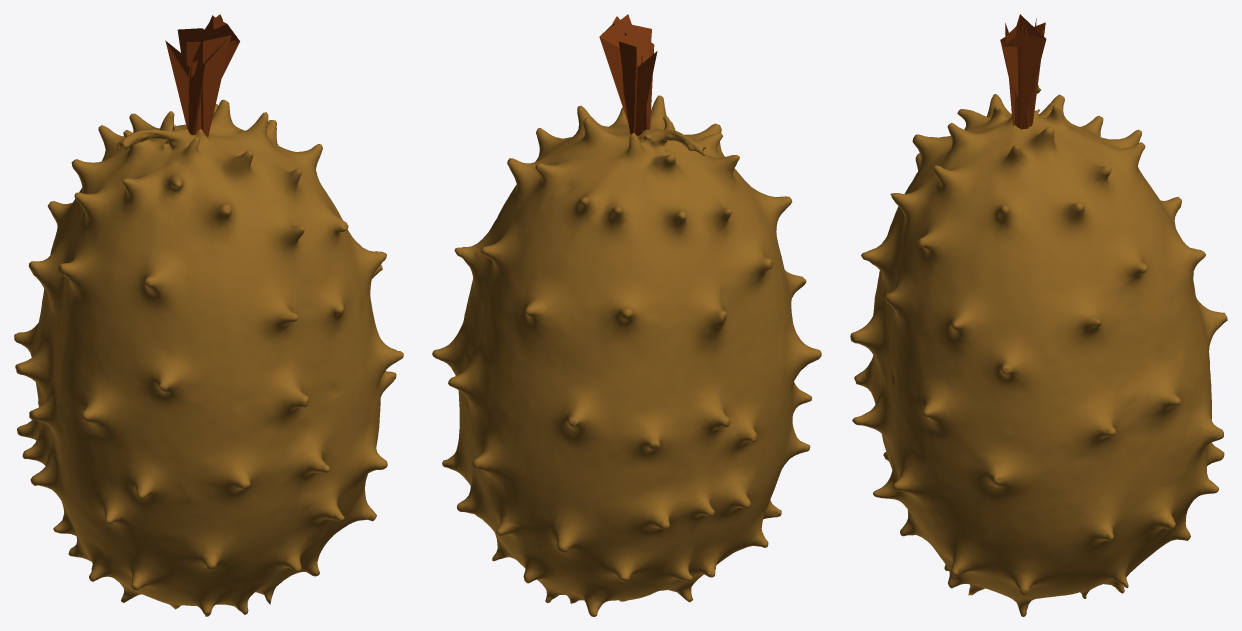
The model's file is Fruit_Sitrus.fbx.
3 views of the same model, side by side, from view 1: azimuth 30°, elevation 25°; view 2: azimuth 150°, elevation 25°; view 3: azimuth 270°, elevation 25° (orthographic). The views are drawn at different scales.
Visible parts, largest first — view 1: kiwano_rigsters, Cylinder; view 2: kiwano_rigsters, Cylinder; view 3: kiwano_rigsters, Cylinder.
Part boxes in pixels (x1=…): kiwano_rigsters: x1=14, y1=99, x2=403, y2=616; Cylinder: x1=165, y1=14, x2=239, y2=137; kiwano_rigsters: x1=432, y1=95, x2=821, y2=616; Cylinder: x1=599, y1=14, x2=657, y2=135; kiwano_rigsters: x1=850, y1=85, x2=1227, y2=616; Cylinder: x1=1000, y1=14, x2=1046, y2=129.
Bounding box in the file's own units: 299 × 499 × 297.
